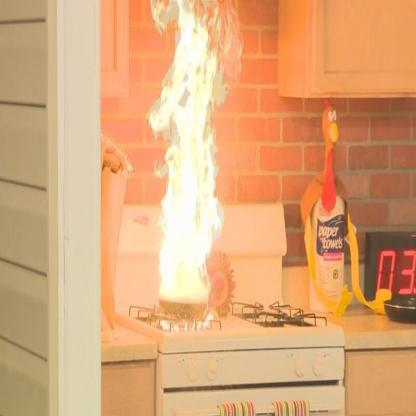fire: (141, 3, 238, 301)
